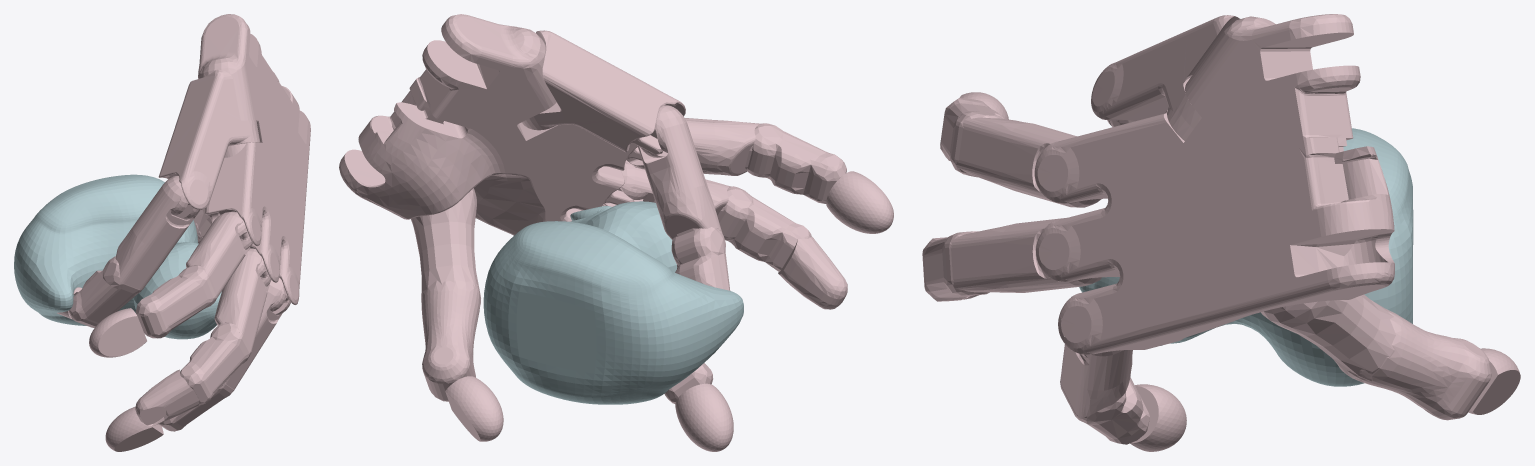
Rendered from grasp_4.glb.
3 renders of one model, left to right at view 1: azimuth 30°, elevation 25°; view 2: azimuth 150°, elevation 25°; view 3: azimuth 270°, elevation 25°, orthographic. The views are drawn at different scales.
Visible parts, largest first — view 1: world; view 2: world; view 3: world.
Part boxes in pixels (<box>): world: <box>14,14,310,451</box>; world: <box>339,14,893,451</box>; world: <box>922,14,1520,451</box>.
Size of the model in its own units: 0.1713 by 0.1742 by 0.1707.
